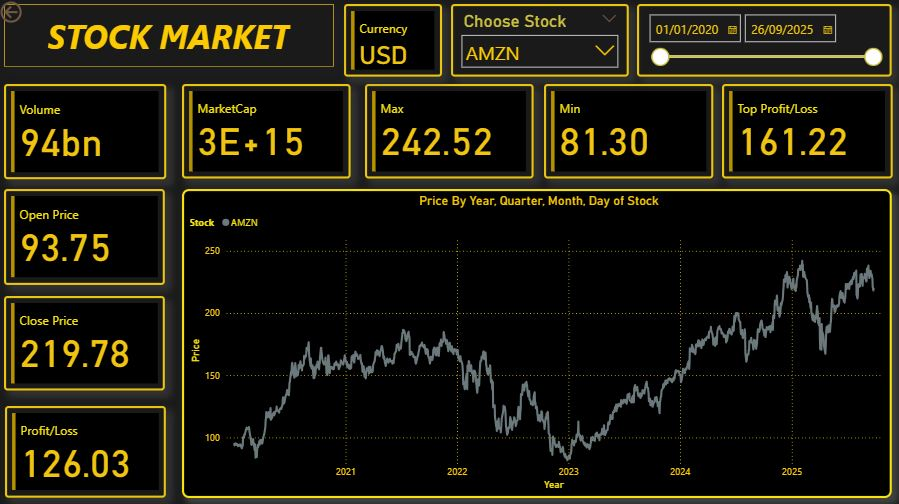

The page's visual inventory and layout, read from the dashboard file:
{"tool":"powerbi","page":{"name":"Stock Price","canvas":[1280,720],"ordinal":1},"visuals":[{"type":"lineChart","title":"Price By Year, Quarter, Month, Day of Stock","fields":{"Category":["stocks_data.Date.Variation.Date Hierarchy.Year","stocks_data.Date.Variation.Date Hierarchy.Quarter","stocks_data.Date.Variation.Date Hierarchy.Month","stocks_data.Date.Variation.Date Hierarchy.Day"],"Series":["stocks_data.Ticker"],"Y":["Sum(stocks_data.Close)"]},"box":[262.2,270.7,1006.3,438],"z":0},{"type":"slicer","fields":{"Values":["stocks_data.Ticker"]},"box":[643.5,8.5,252.3,103.5],"z":1000},{"type":"slicer","fields":{"Values":["stocks_data.Date"]},"box":[907.1,8.5,361.4,103.5],"z":2000},{"type":"cardVisual","fields":{"Data":["Min(stocks_data.Low)"]},"box":[774.6,122.4,240.3,134.3],"z":3000},{"type":"cardVisual","fields":{"Data":["Max(stocks_data.High)"]},"box":[520.9,122.4,238.8,134.3],"z":4000},{"type":"cardVisual","fields":{"Data":["stocks_data.Changes"]},"box":[1026.9,122.4,241.8,134.3],"z":5000},{"type":"cardVisual","fields":{"Data":["select","stocks_data.Open Price"]},"box":[10.4,270.1,228.4,135.8],"z":6000},{"type":"cardVisual","fields":{"Data":["select","stocks_data.Close Price"]},"box":[10.4,422.4,228.4,134.3],"z":7000},{"type":"cardVisual","fields":{"Data":["select","stocks_data.Profit/Loss"]},"box":[11.9,577.6,228.4,129.9],"z":8000},{"type":"cardVisual","fields":{"Data":["Sum(stocks_data.Volume)"]},"box":[9.9,121.9,229.6,135],"z":9000},{"type":"cardVisual","fields":{"Data":["Min(stocks_data.Currency)"]},"box":[491.8,8.5,138.9,103.5],"z":10000},{"type":"cardVisual","fields":{"Data":["Sum(stocks_data.MarketCap)"]},"box":[262.7,122.4,238.8,134.3],"z":11000},{"type":"shape","title":"STOCK MARKET","box":[9.9,8.5,467.7,89.3],"z":12000},{"type":"actionButton","box":[0,0,100,40],"z":13000}]}

Visuals, with their boxes in screenshot pixels (x1, y1, x2, y2), scaled from the page's 1280x720 canvas onto the 899x504 screenshot:
"Price By Year, Quarter, Month, Day of Stock" lineChart: [left=184, top=189, right=891, bottom=496]
slicer - stocks_data.Ticker: [left=452, top=6, right=629, bottom=78]
slicer - stocks_data.Date: [left=637, top=6, right=891, bottom=78]
cardVisual - Min(stocks_data.Low): [left=544, top=86, right=713, bottom=180]
cardVisual - Max(stocks_data.High): [left=366, top=86, right=534, bottom=180]
cardVisual - stocks_data.Changes: [left=721, top=86, right=891, bottom=180]
cardVisual - select x stocks_data.Open Price: [left=7, top=189, right=168, bottom=284]
cardVisual - select x stocks_data.Close Price: [left=7, top=296, right=168, bottom=390]
cardVisual - select x stocks_data.Profit/Loss: [left=8, top=404, right=169, bottom=495]
cardVisual - Sum(stocks_data.Volume): [left=7, top=85, right=168, bottom=180]
cardVisual - Min(stocks_data.Currency): [left=345, top=6, right=443, bottom=78]
cardVisual - Sum(stocks_data.MarketCap): [left=185, top=86, right=352, bottom=180]
"STOCK MARKET" shape: [left=7, top=6, right=335, bottom=68]
actionButton: [left=0, top=0, right=70, bottom=28]
